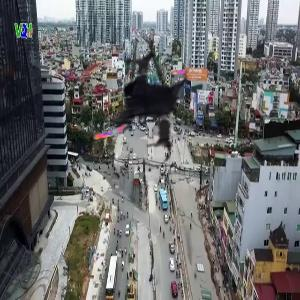drone: (61, 31, 207, 177)
